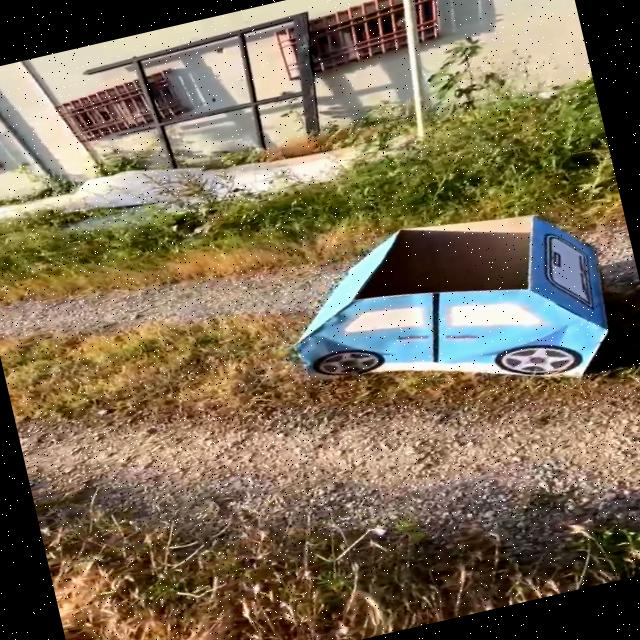blue_car: (233, 153, 640, 486)
